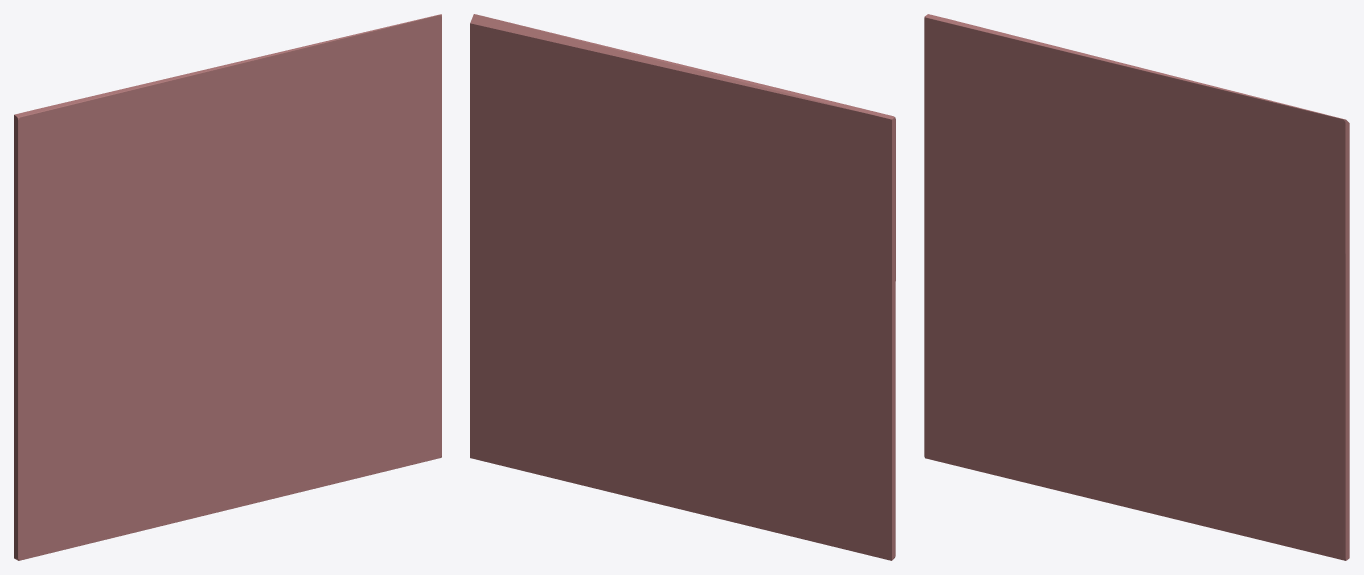
File: environment_floor_a01.glb
3 renders of one model, left to right at view 1: azimuth 30°, elevation 25°; view 2: azimuth 150°, elevation 25°; view 3: azimuth 330°, elevation 25°, orthographic.
Visible parts, largest first — view 1: geometry_0; view 2: geometry_0; view 3: geometry_0.
Part boxes in pixels (x1=…): geometry_0: x1=14, y1=14, x2=441, y2=560; geometry_0: x1=470, y1=14, x2=895, y2=560; geometry_0: x1=924, y1=14, x2=1349, y2=560.
Bounding box in the file's own units: 0.48 × 0.48 × 0.008.
